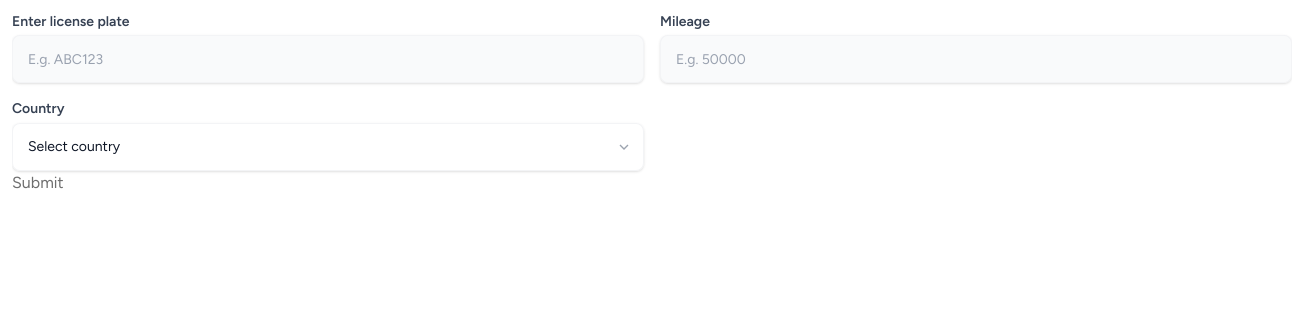
Test case: StepVehicleSelection › shows CA provinces when Canada is selected
Select "Canada" in the dropdown labelled "Country" at (328, 146), box x1=12 y1=122 x2=644 y2=170
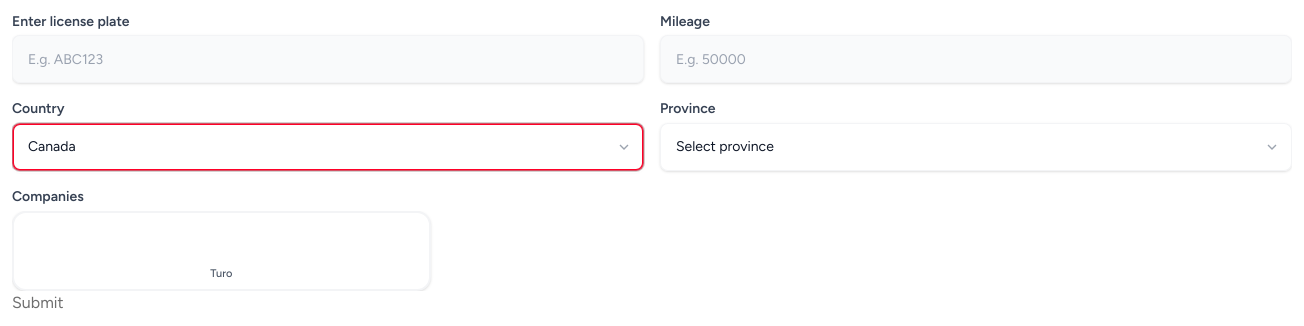
Check: the dropdown labelled "Province" is shown, box x1=660 y1=122 x2=1292 y2=170
